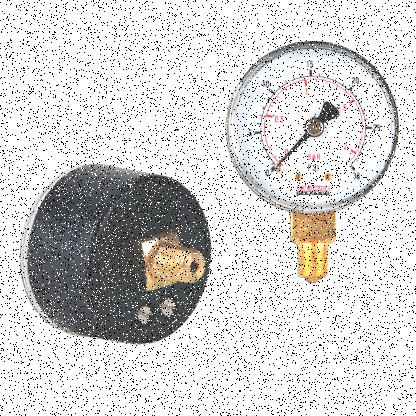needle: (269, 132, 310, 174)
